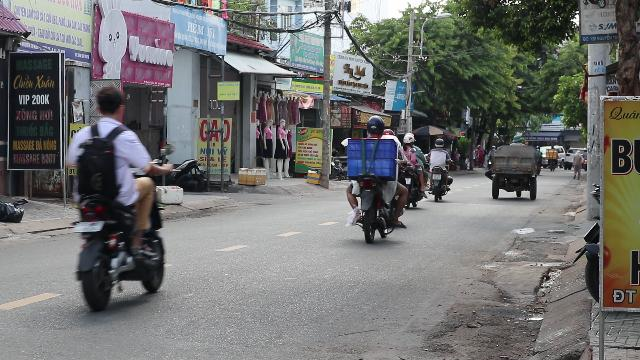helmet: (366, 115, 384, 136)
motorcyclist: (66, 81, 170, 315), (342, 114, 408, 242)
nohelmet: (94, 84, 126, 120)
